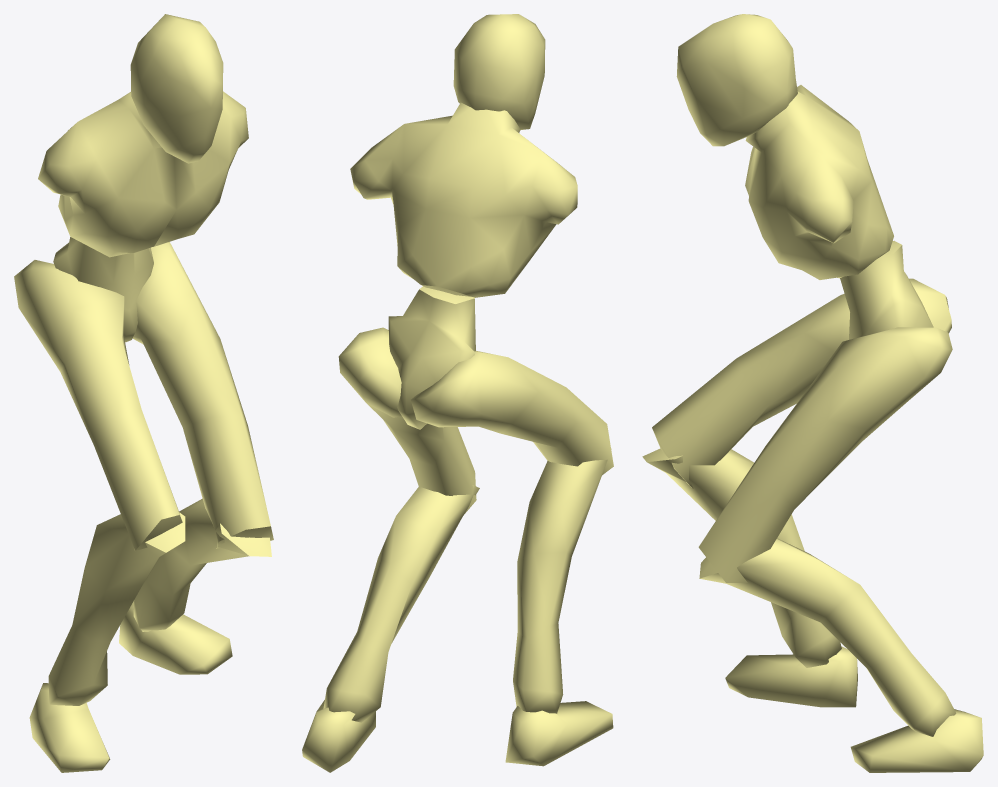
File: filth64.obj
3 views of the same model, side by side, from view 1: azimuth 30°, elevation 25°; view 2: azimuth 150°, elevation 25°; view 3: azimuth 270°, elevation 25° (orthographic). The views are drawn at different scales.
Visible parts, largest first — view 1: Melee_Husk; view 2: Melee_Husk; view 3: Melee_Husk.
Part boxes in pixels (x1=…): Melee_Husk: x1=14, y1=14, x2=273, y2=772; Melee_Husk: x1=302, y1=14, x2=613, y2=772; Melee_Husk: x1=642, y1=14, x2=983, y2=772.
Size of the model in its own units: 22.16 by 65.82 by 28.22.
